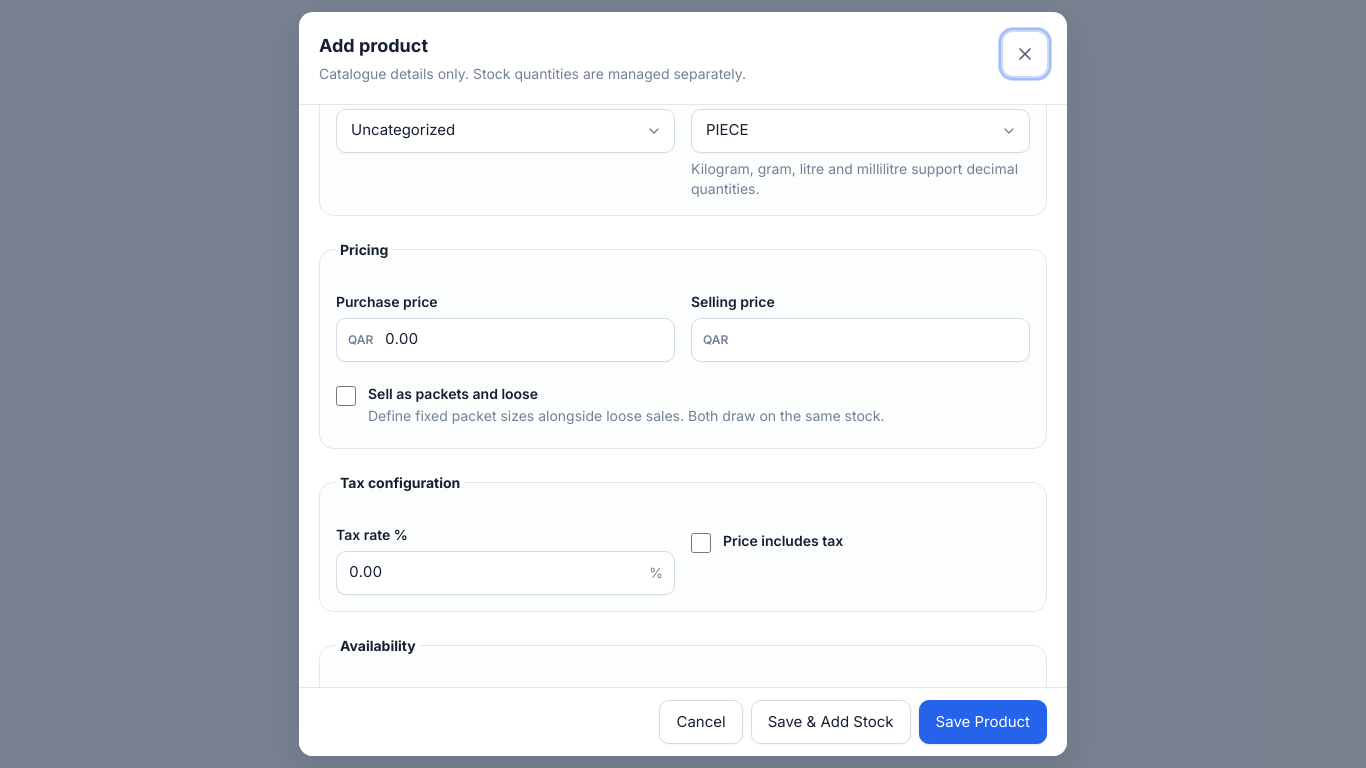
it: ProductDialog › multi-pricing packets › reveals a first blank packet row when multi-pricing is enabled
This screenshot has width=1366, height=768.
(page scrolled)
Click the checkbox labelled "Sell as packets and loose": coordinates (346, 396) [336, 386, 356, 406]
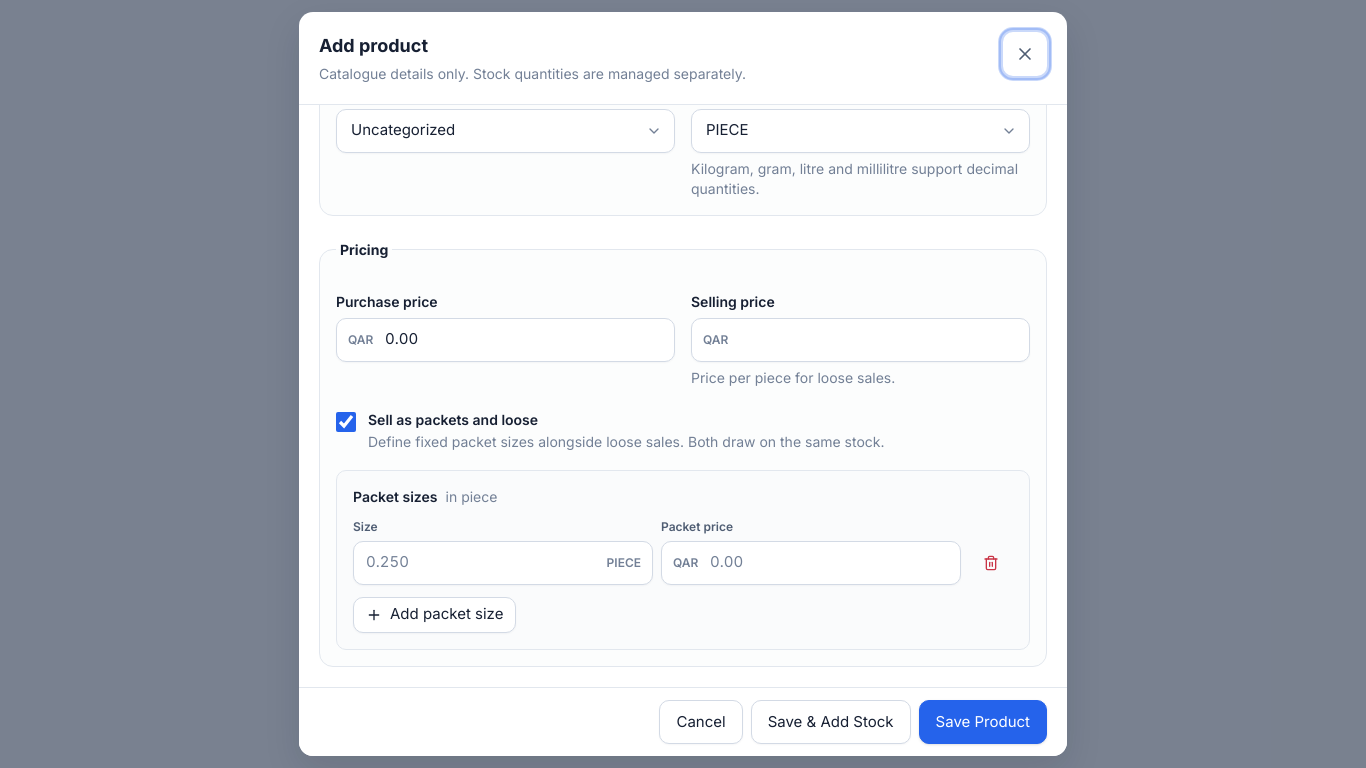
Check: the field labelled "Size" is shown, box [353, 540, 653, 584]
Check: the field labelled "Packet price" is shown, box [661, 540, 961, 584]
